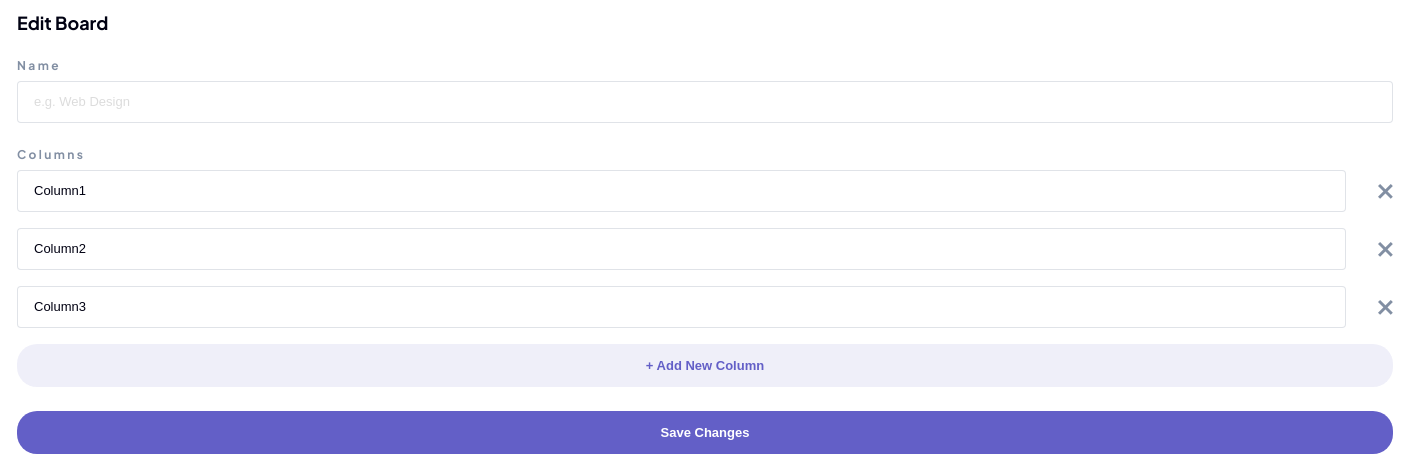
UpdateBoardModal › validation errors are shown when name is empty
The width and height of the screenshot is (1411, 472).
Click the button with test id "update-board-submit": (705, 432) [17,411,1393,454]
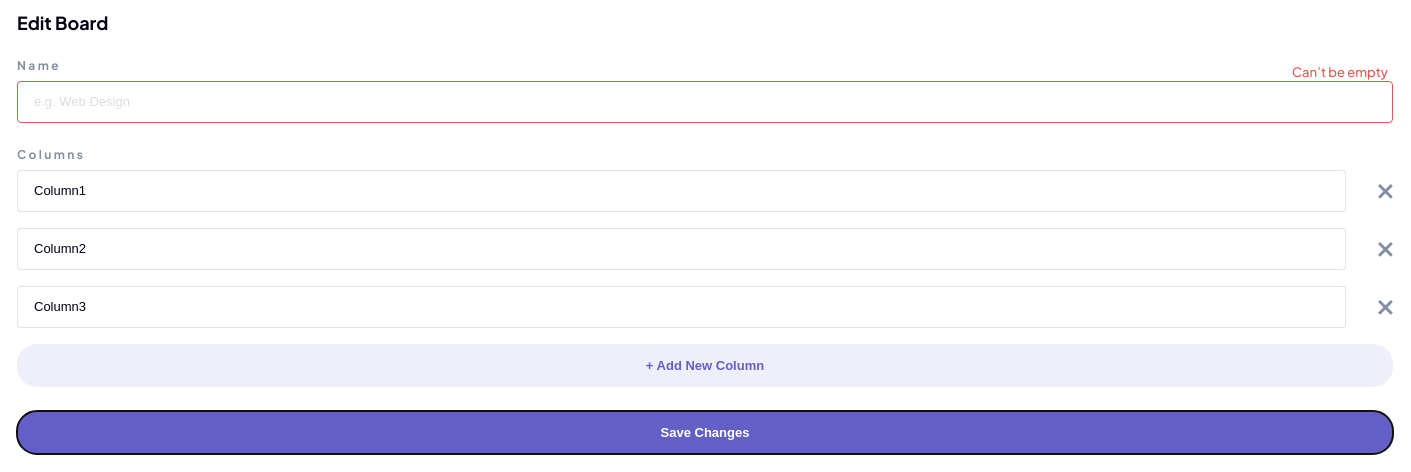
Expected: the element with test id "name text-field-error" is shown, [17,81,1393,123]
